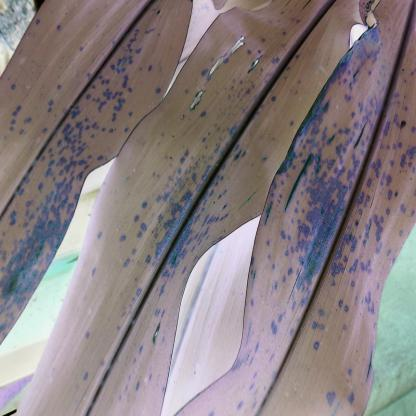Corn rust leaf: (48, 13, 328, 416), (224, 8, 416, 408), (0, 5, 191, 343)
